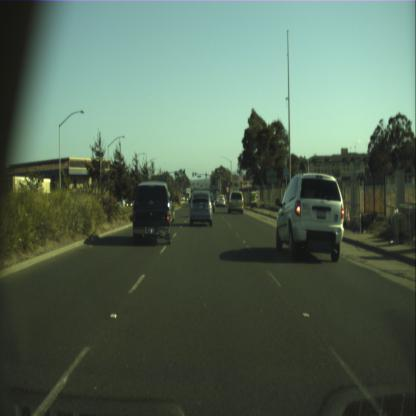Green: (230, 182, 232, 187), (206, 173, 206, 177)
Red: (192, 171, 194, 176)
